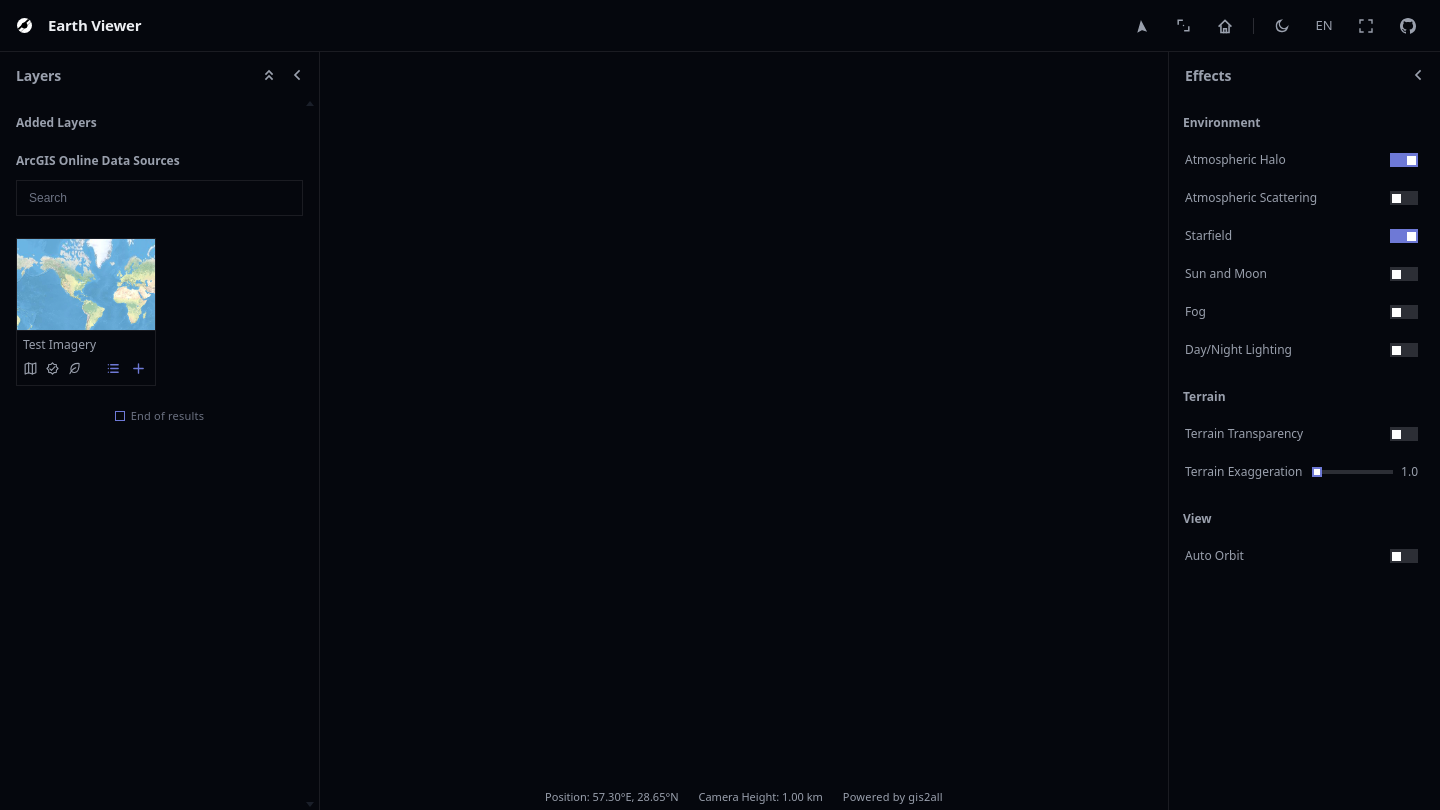
行为链路：搜索 → 添加 → 渲染 → 移除 › 添加失败：toast 提示，store 不变，Cesium 无新增图层
Expected: the text "Test Imagery" is shown, x1=23 y1=336 x2=96 y2=353
Click the button named "Add Test Imagery": click(138, 369) x1=128 y1=359 x2=148 y2=379
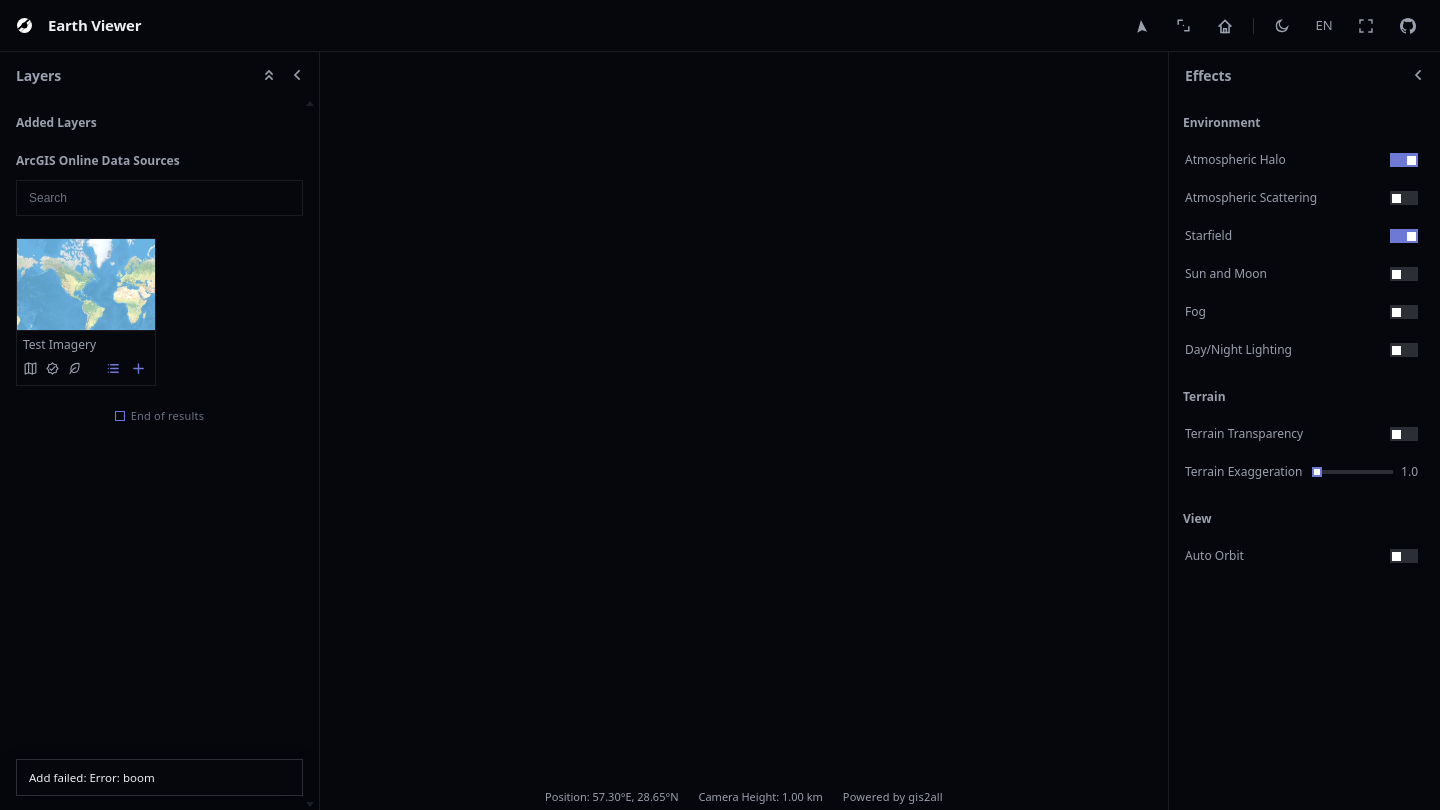
Now the message "Add failed: Error: boom" is shown, box x1=16 y1=759 x2=303 y2=796
